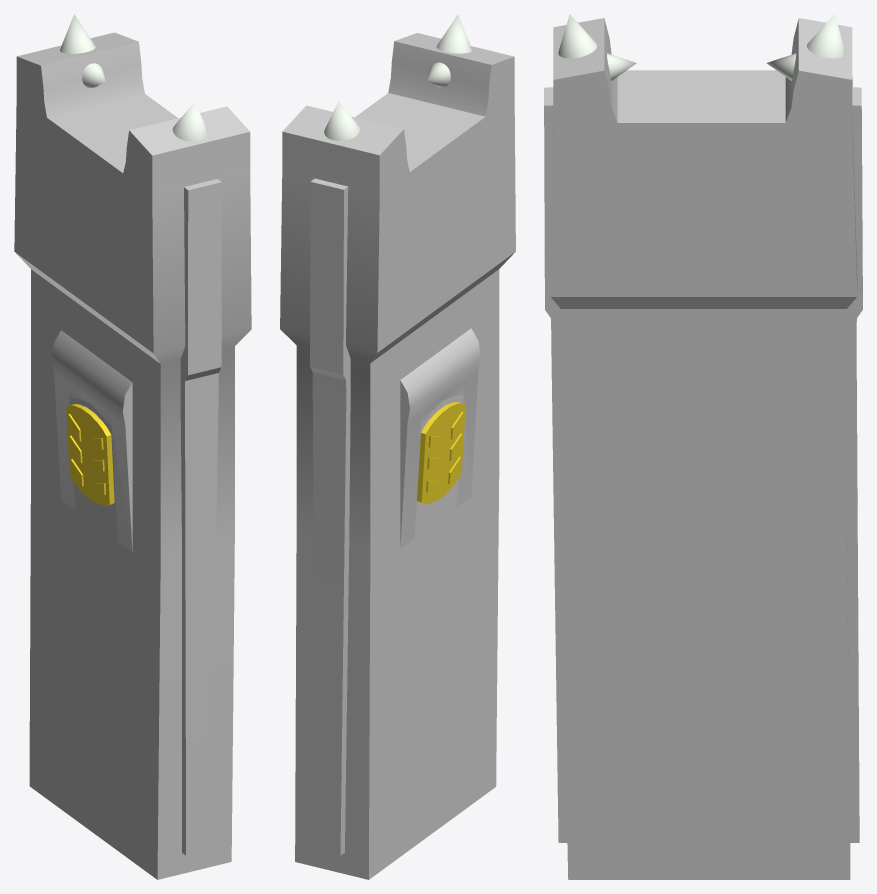
The model's file is shoker.fbx.
3 views of the same model, side by side, from view 1: azimuth 30°, elevation 25°; view 2: azimuth 150°, elevation 25°; view 3: azimuth 270°, elevation 25° (orthographic). The views are drawn at different scales.
Visible parts, largest first — view 1: Cube, Plane.004, Cone, Cone.001; view 2: Cube, Plane.004, Cone.001, Cone; view 3: Cube, Cone, Cone.001.
Boxes of the visible parts, x1,y1,x2,y2 form: Cube: (14, 32, 251, 879); Plane.004: (66, 404, 114, 505); Cone: (172, 102, 208, 141); Cone.001: (60, 14, 95, 53); Cube: (280, 33, 515, 879); Plane.004: (417, 402, 465, 503); Cone.001: (324, 102, 359, 140); Cone: (436, 14, 472, 53); Cube: (544, 18, 862, 879); Cone: (558, 14, 597, 58); Cone.001: (807, 14, 845, 58).
Size of the model in its own units: 0.0199 by 0.0509 by 0.149.
